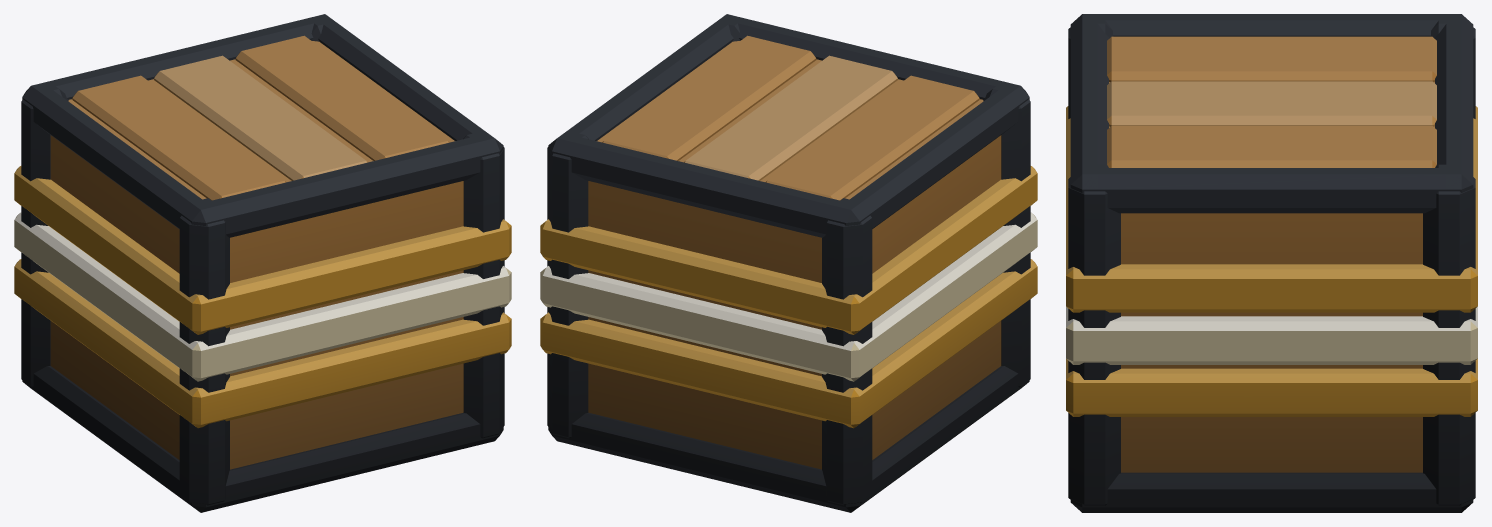
The model's file is banded-crate.glb.
The picture shows the model from 3 angles, left to right: view 1: azimuth 30°, elevation 25°; view 2: azimuth 150°, elevation 25°; view 3: azimuth 270°, elevation 25°; orthographic projection. The views are drawn at different scales.
Visible parts, largest first — view 1: mesh_banded_crate; view 2: mesh_banded_crate; view 3: mesh_banded_crate.
Boxes of the visible parts, x1,y1,x2,y2 form: mesh_banded_crate: [14, 14, 511, 512]; mesh_banded_crate: [540, 14, 1037, 512]; mesh_banded_crate: [1066, 14, 1477, 512].
Bounding box in the file's own units: 0.86 × 0.78 × 0.86.
